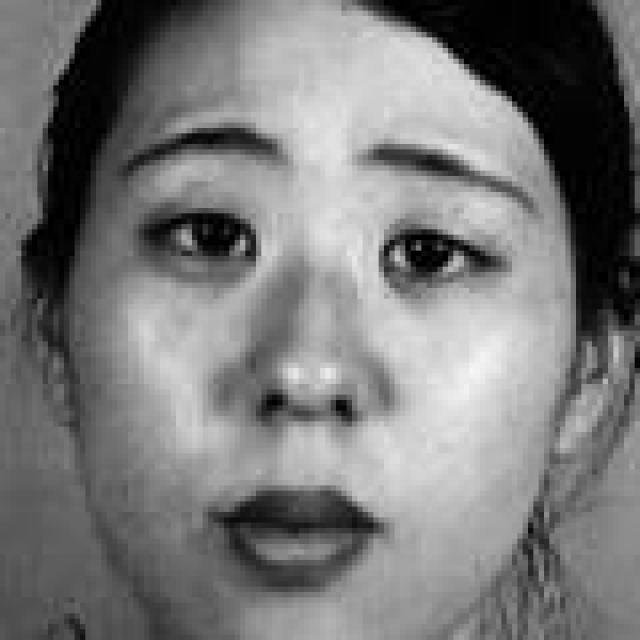sad: (73, 94, 553, 626)
